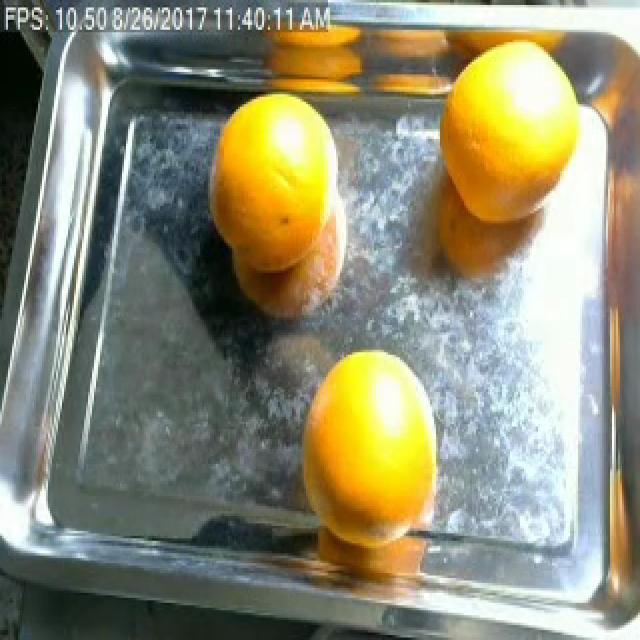Fruit: (420, 27, 602, 236), (284, 327, 460, 541), (190, 84, 350, 280)
